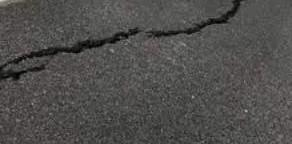crack: (0, 0, 245, 82)
